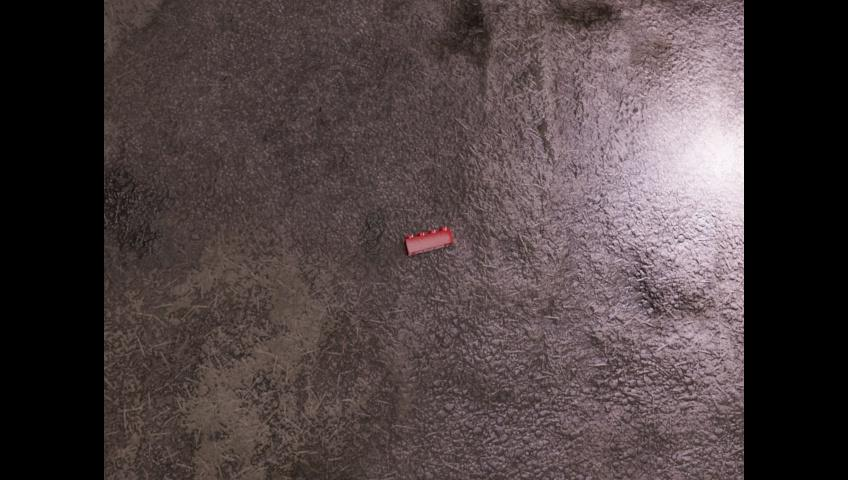4x2_red: (404, 226, 452, 255)
